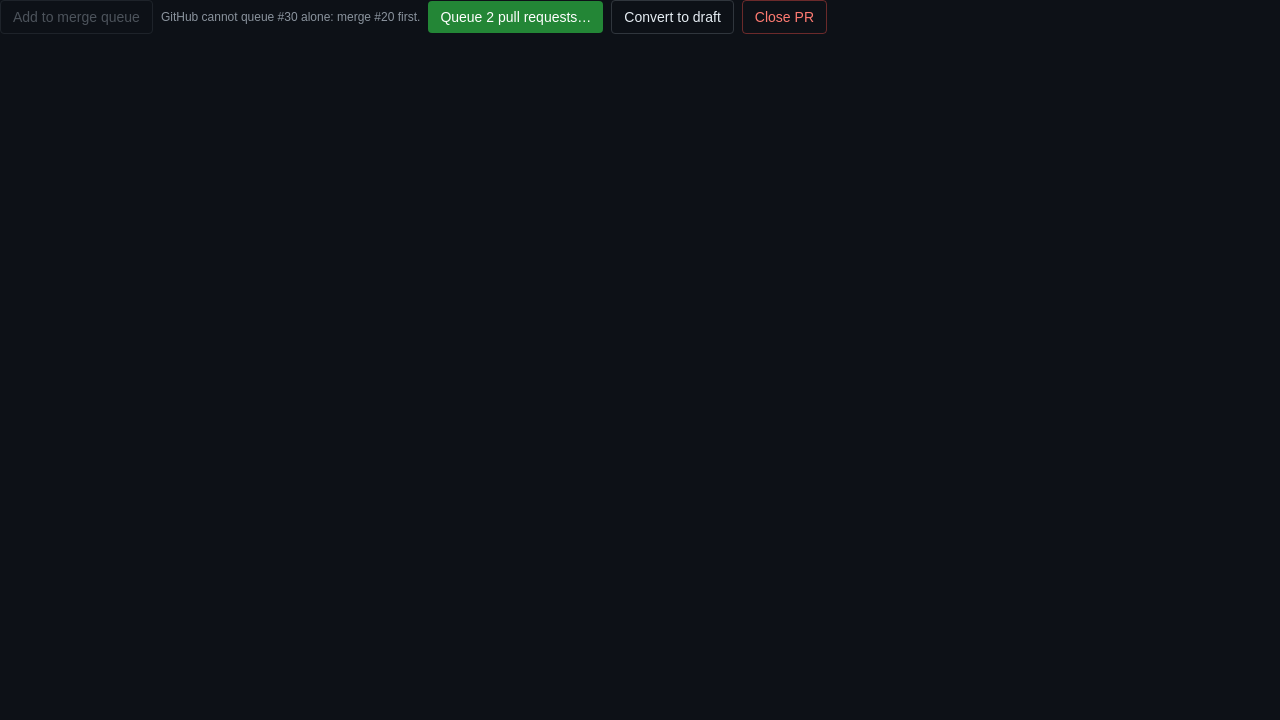
Test: reports aggregate pending checks as advisory when required-check policy is unknown
This screenshot has width=1280, height=720.
Step 1. Click the button "Queue 2 pull requests…" → coordinates (516, 17), box [428,1,603,33]
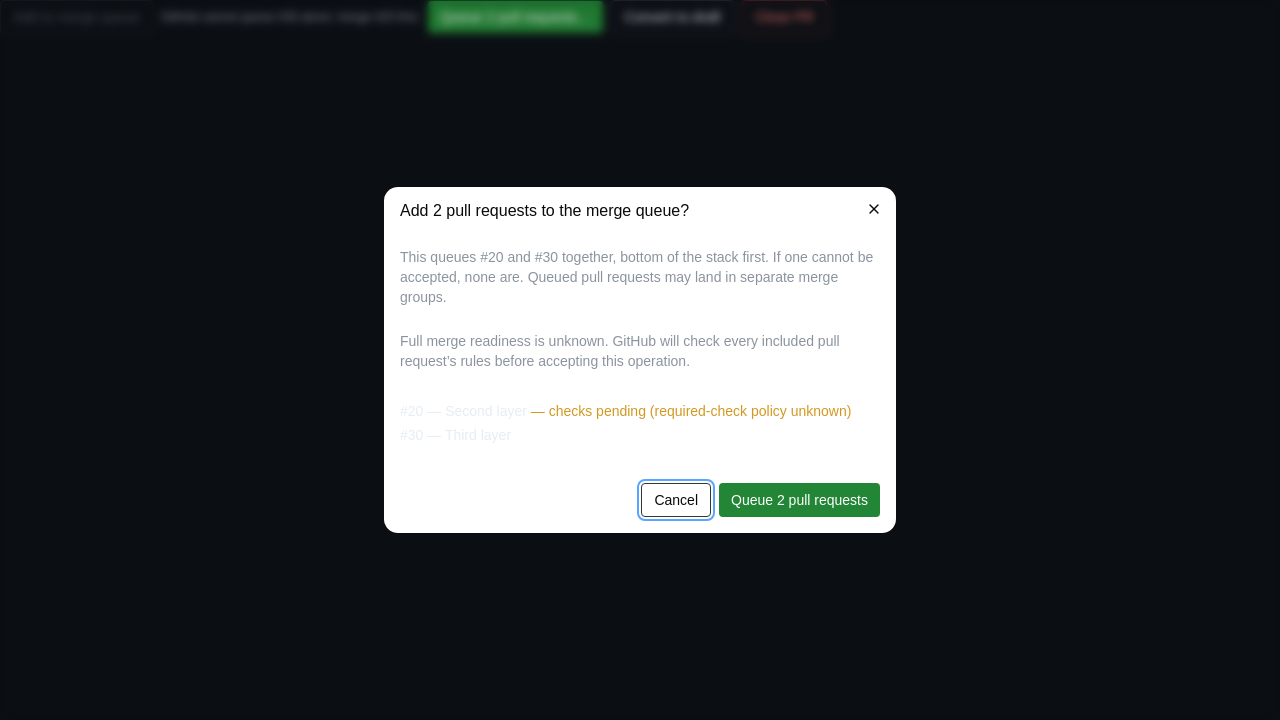
Expected: the dialog shows "checks pending", [549,403,851,419]
Expected: the button "Queue 2 pull requests" is enabled, [719,483,880,517]
